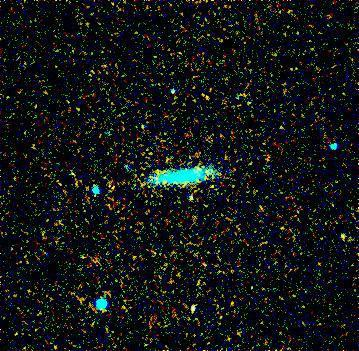star: (197, 173, 227, 203)
